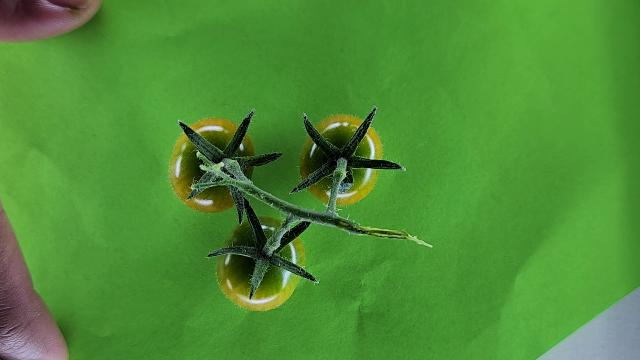Fully Grown: (215, 214, 306, 311), (169, 117, 257, 213), (298, 114, 383, 206)
